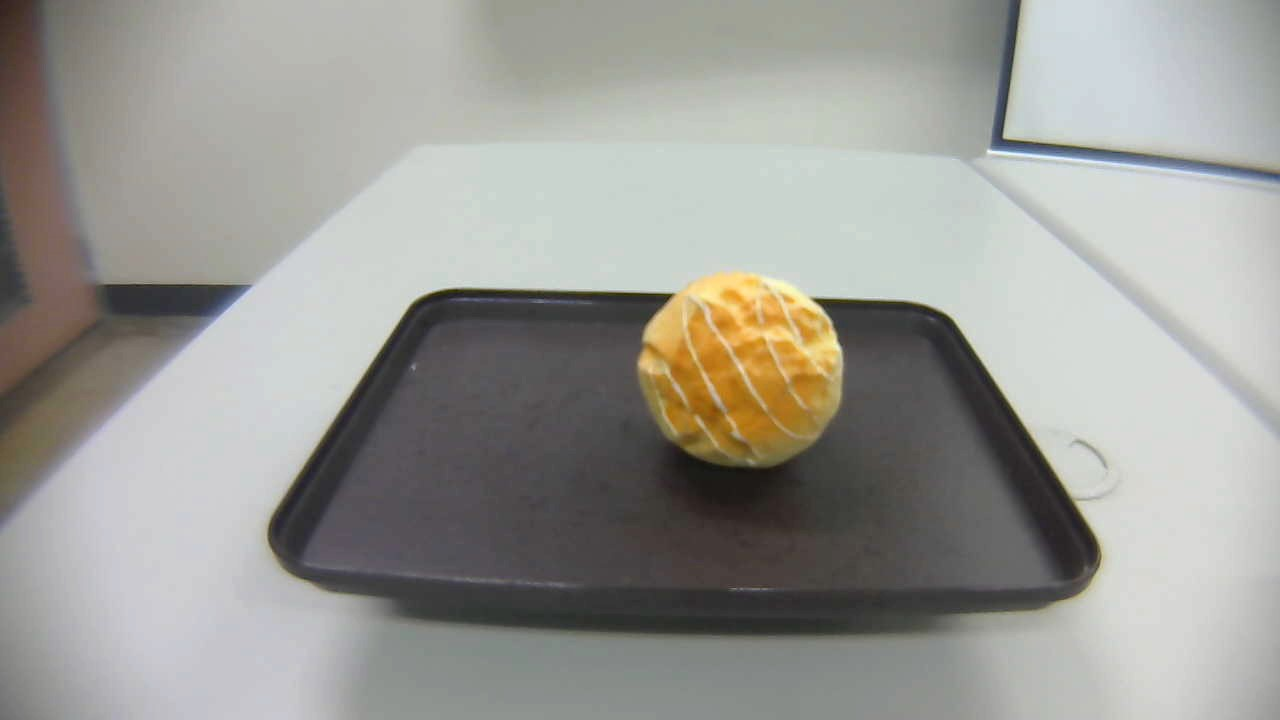cupcake: (636, 272, 846, 472)
